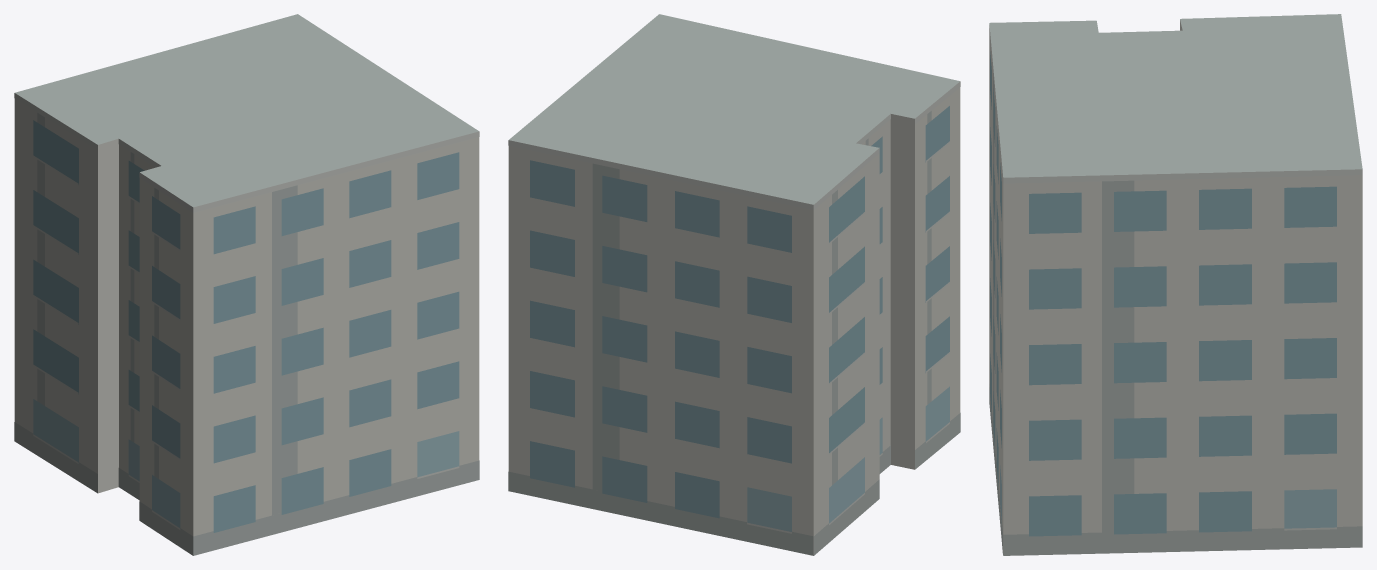
File: survey-upis-32808504.glb
The picture shows the model from 3 angles, left to right: view 1: azimuth 30°, elevation 25°; view 2: azimuth 150°, elevation 25°; view 3: azimuth 270°, elevation 25°; orthographic projection. The views are drawn at different scales.
Visible parts, largest first — view 1: survey-upis-32808504.tmp; view 2: survey-upis-32808504.tmp; view 3: survey-upis-32808504.tmp.
Boxes of the visible parts, bbox=[...] form: survey-upis-32808504.tmp: bbox=[14, 14, 479, 555]; survey-upis-32808504.tmp: bbox=[508, 14, 960, 555]; survey-upis-32808504.tmp: bbox=[989, 14, 1362, 555].
Size of the model in its own units: 14.22 by 15.3 by 13.7.
